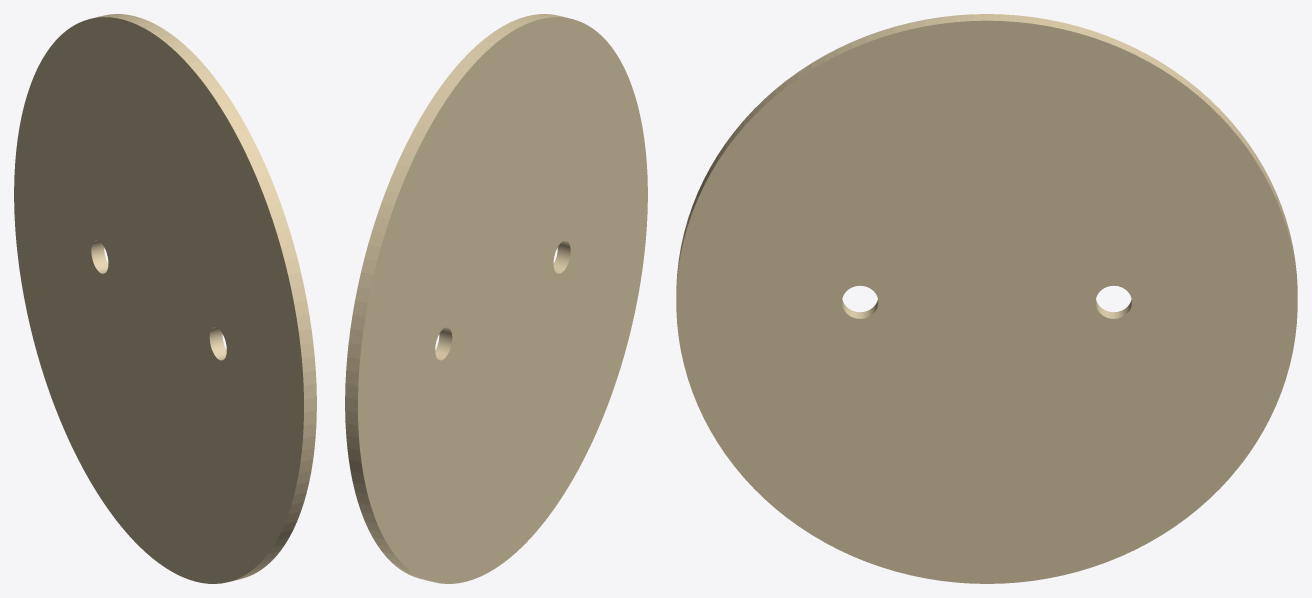
File: throttle-plate.glb
The picture shows the model from 3 angles, left to right: view 1: azimuth 30°, elevation 25°; view 2: azimuth 150°, elevation 25°; view 3: azimuth 270°, elevation 25°; orthographic projection. The views are drawn at different scales.
Visible parts, largest first — view 1: world; view 2: world; view 3: world.
Part boxes in pixels (x1,y1,x2,y2): world: [14, 14, 316, 583]; world: [345, 14, 647, 583]; world: [676, 14, 1297, 583].
Size of the model in its own units: 0.001 by 0.0392 by 0.0392.
